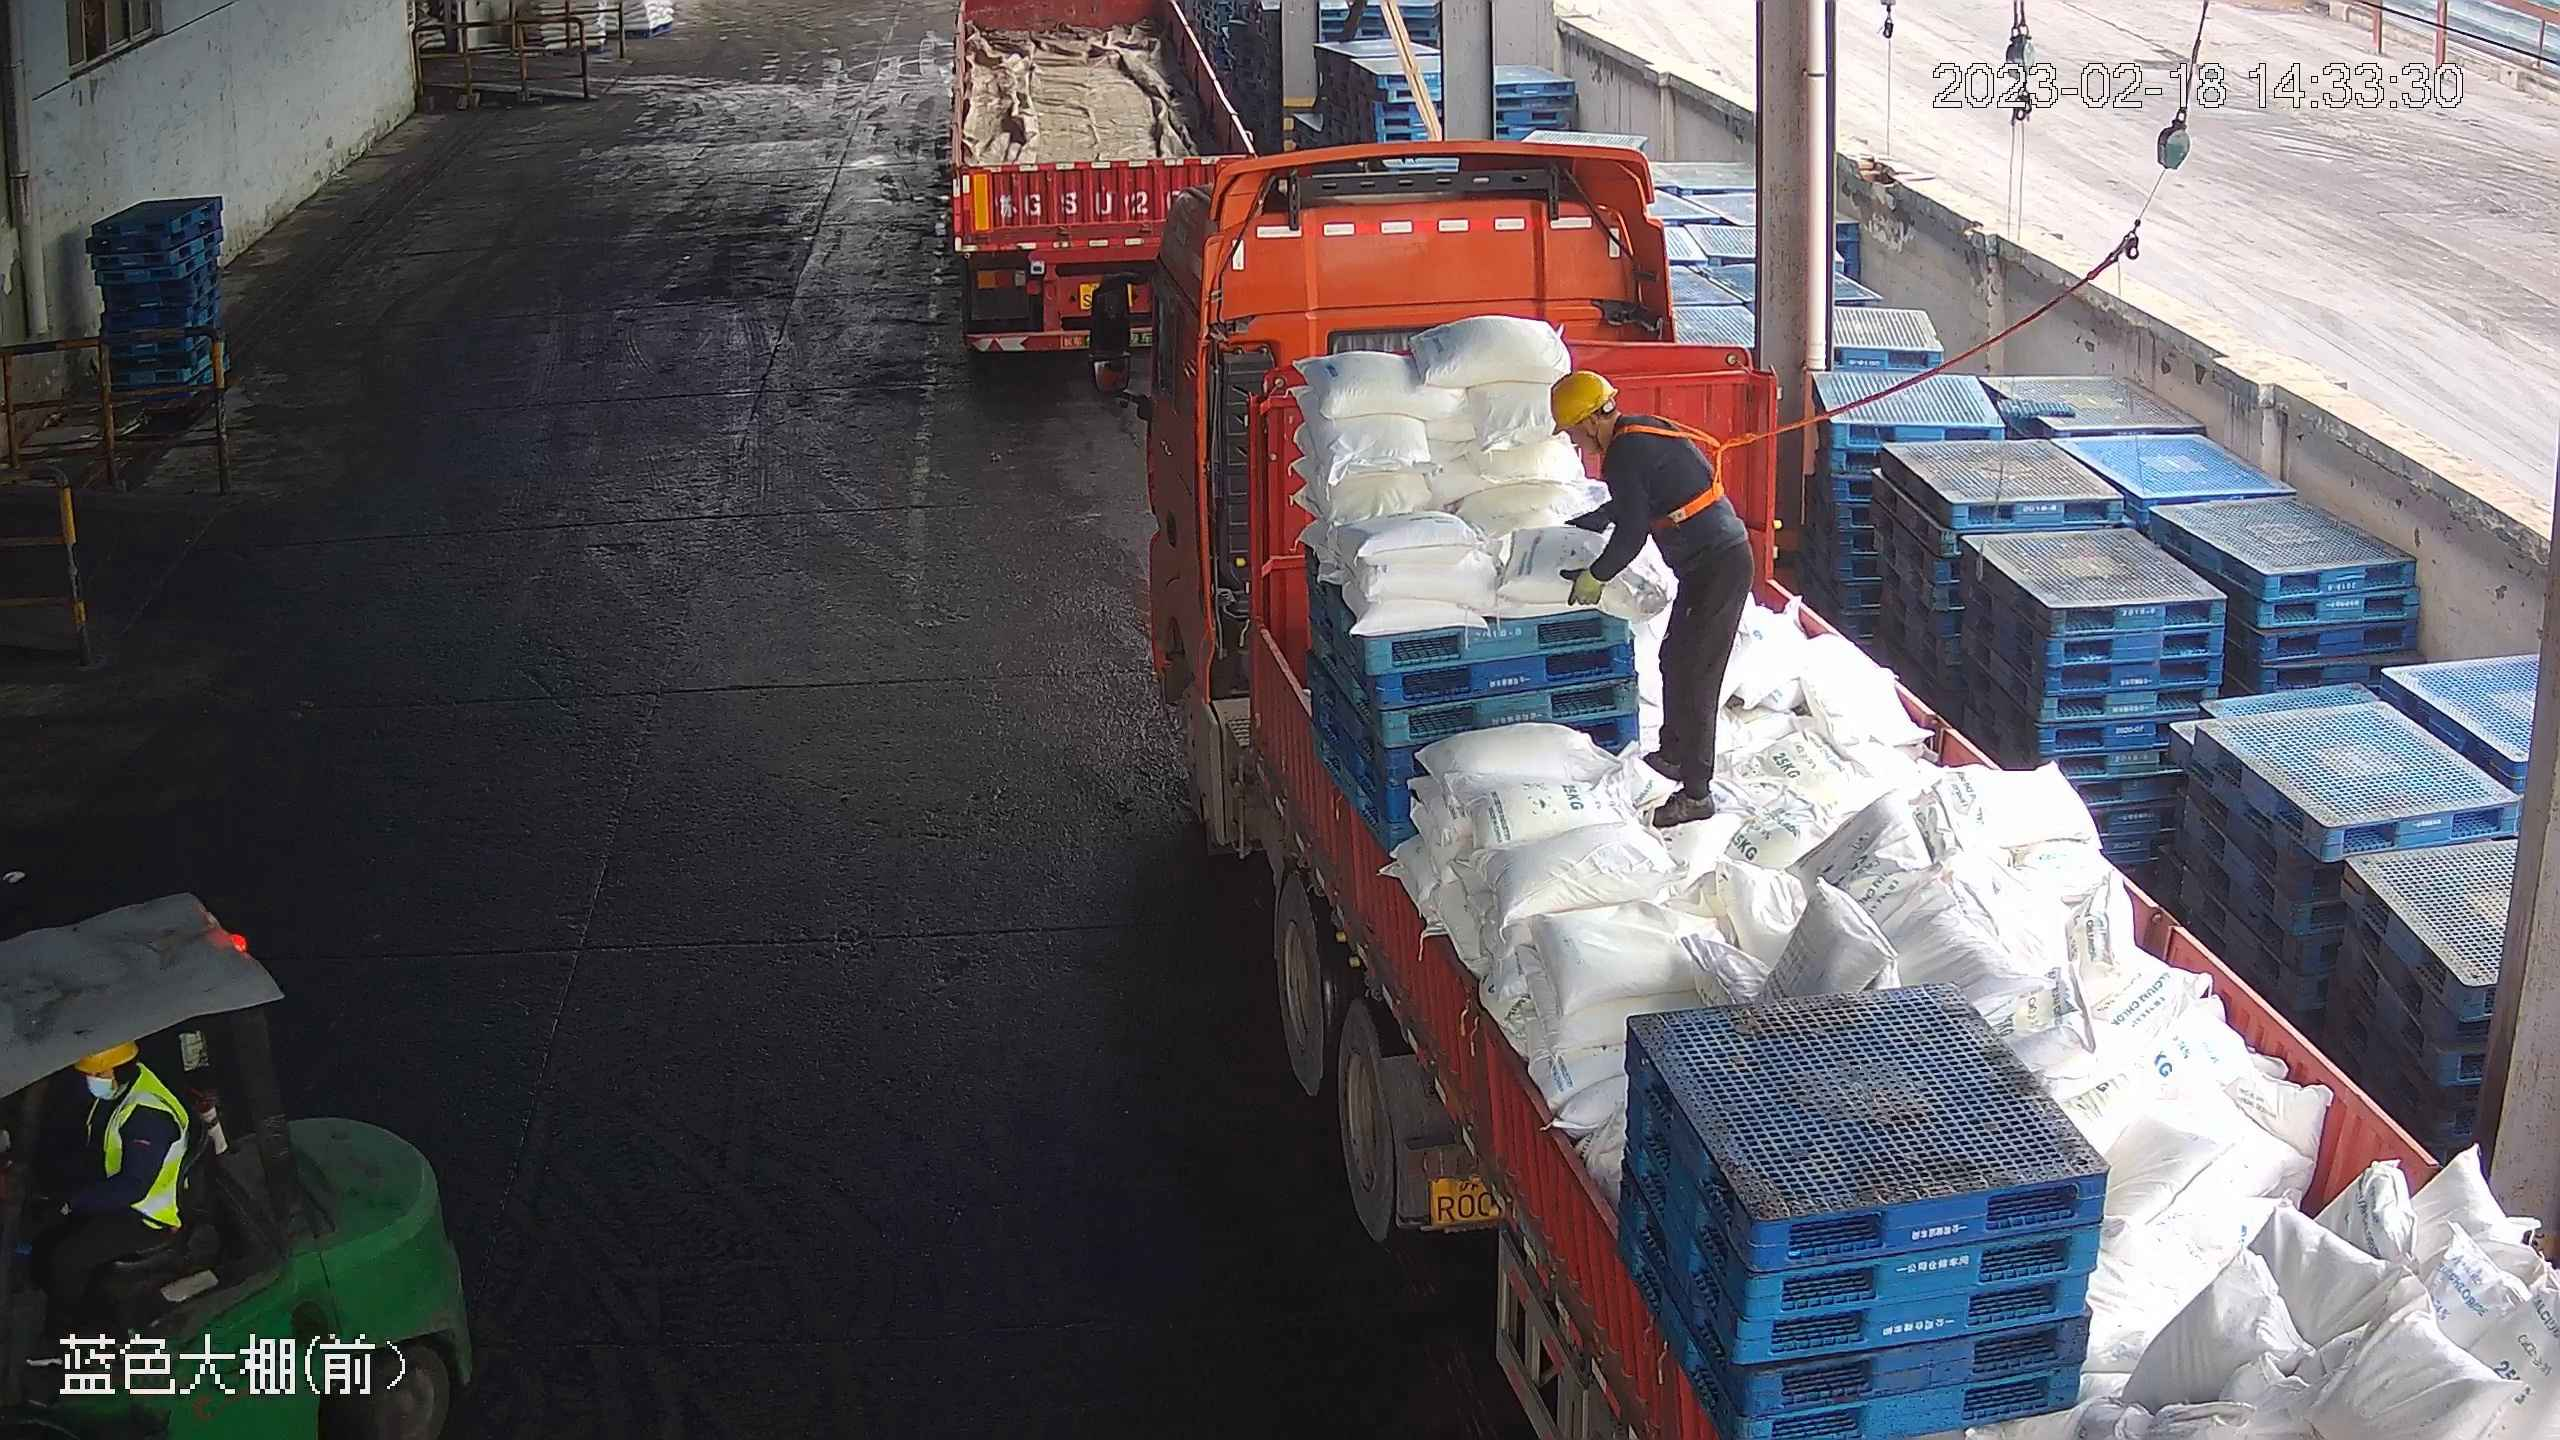belt: (1623, 410, 1767, 532)
head: (1549, 369, 1696, 506), (59, 1035, 188, 1183)
helmet: (1551, 369, 1618, 435)
people: (1549, 369, 1757, 828), (34, 1037, 203, 1369)
truck: (1083, 135, 2560, 1440), (947, 1, 1261, 372)
